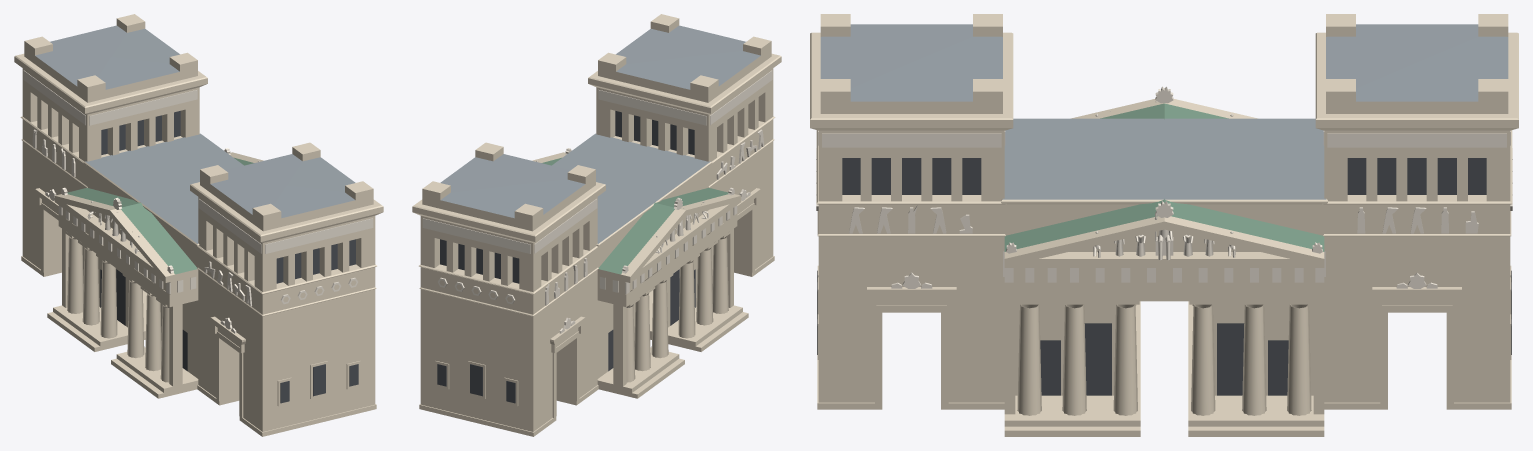
File: munich-propylaeen.glb
3 renders of one model, left to right at view 1: azimuth 30°, elevation 25°; view 2: azimuth 150°, elevation 25°; view 3: azimuth 270°, elevation 25°, orthographic. The views are drawn at different scales.
Visible parts, largest first — view 1: Propyläen; view 2: Propyläen; view 3: Propyläen.
Boxes of the visible parts, x1,y1,x2,y2 form: Propyläen: [14, 14, 383, 436]; Propyläen: [412, 14, 781, 436]; Propyläen: [810, 14, 1518, 436].
Bounding box in the file's own units: 25.6 × 28 × 56.8.
